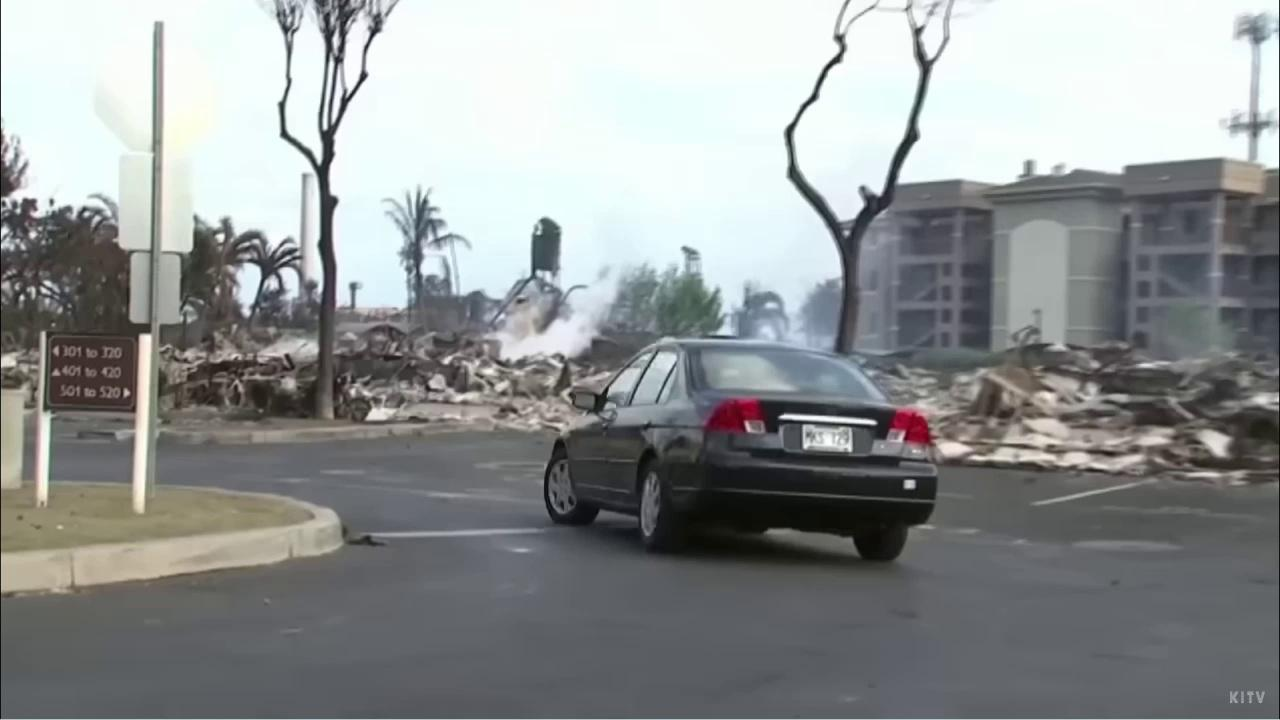smoke: (476, 261, 625, 363)
